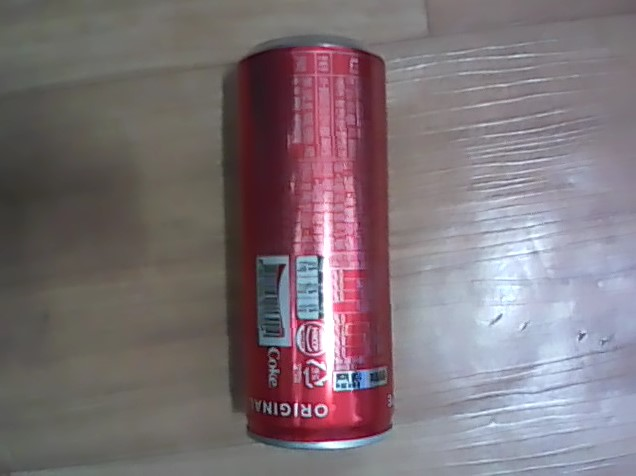Can: (217, 30, 400, 456)
